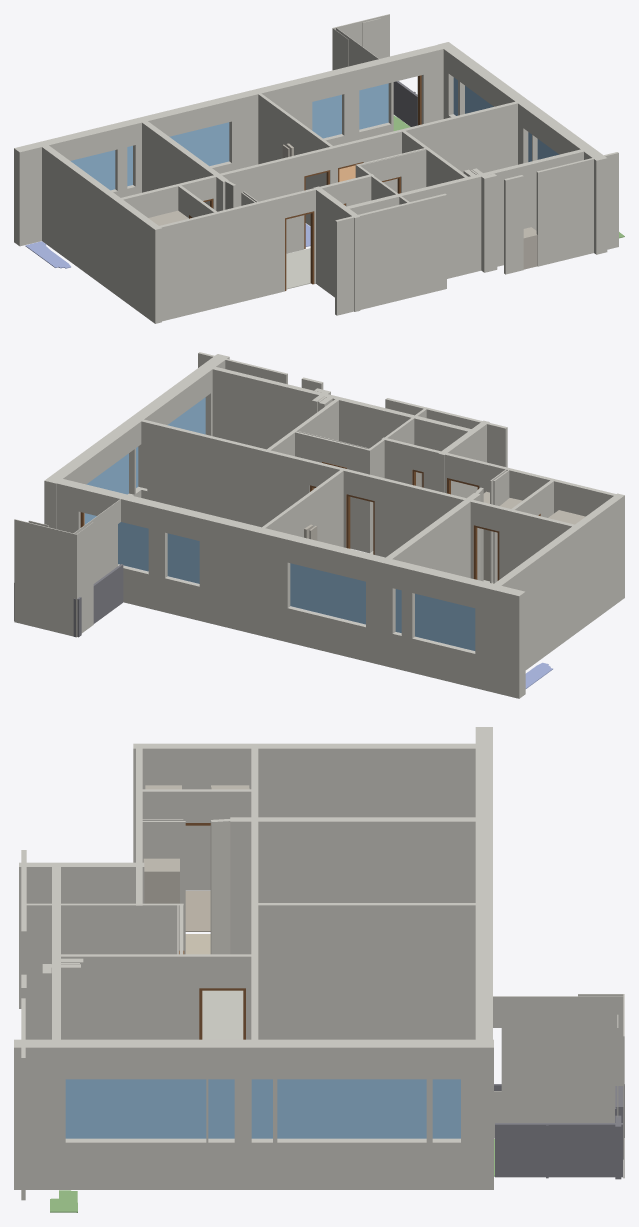
The picture shows the model from 3 angles, top to bottom: view 1: azimuth 30°, elevation 25°; view 2: azimuth 150°, elevation 25°; view 3: azimuth 270°, elevation 25°; orthographic projection. The views are drawn at different scales.
Visible parts, largest first — view 1: walls, window_5, window_11, window_13, window_6, railings, floor_5_Undefined, furniture_13_appliance, door_7, floor_12_Bed_Room, window_3; view 2: walls, window_5, window_6, railings, window_13, window_11, window_3, window_1; view 3: walls, window_3, window_1, railings, floor_5_Undefined, window_15, furniture_5_closet, window_9, window_16, floor_3_Storage.
Boxes of the visible parts, box(x1,y1,x2,y2) form: walls: box(14, 14, 618, 323); window_5: box(169, 122, 229, 166); window_11: box(359, 83, 388, 129); window_13: box(312, 94, 341, 138); window_6: box(70, 150, 115, 190); railings: box(393, 81, 417, 126); floor_5_Undefined: box(286, 248, 310, 289); furniture_13_appliance: box(523, 227, 537, 269); door_7: box(285, 211, 314, 290); floor_12_Bed_Room: box(25, 241, 70, 268); window_3: box(465, 86, 493, 113); walls: box(14, 352, 624, 698); window_5: box(290, 563, 365, 624); window_6: box(415, 593, 475, 650); railings: box(14, 564, 123, 637); window_13: box(167, 533, 199, 583); window_11: box(118, 522, 148, 571); window_3: box(85, 453, 128, 524); window_1: box(167, 397, 205, 434); walls: box(14, 727, 624, 1200); window_3: box(277, 1079, 426, 1138); window_1: box(65, 1079, 206, 1138); railings: box(494, 1084, 624, 1179); floor_5_Undefined: box(202, 990, 243, 1039); window_15: box(432, 1079, 460, 1138); furniture_5_closet: box(143, 858, 179, 903); window_9: box(208, 1079, 234, 1138); window_16: box(251, 1079, 272, 1138); floor_3_Storage: box(185, 891, 210, 931).
Bounding box in the file's own units: 13.96 × 2.72 × 10.52.
